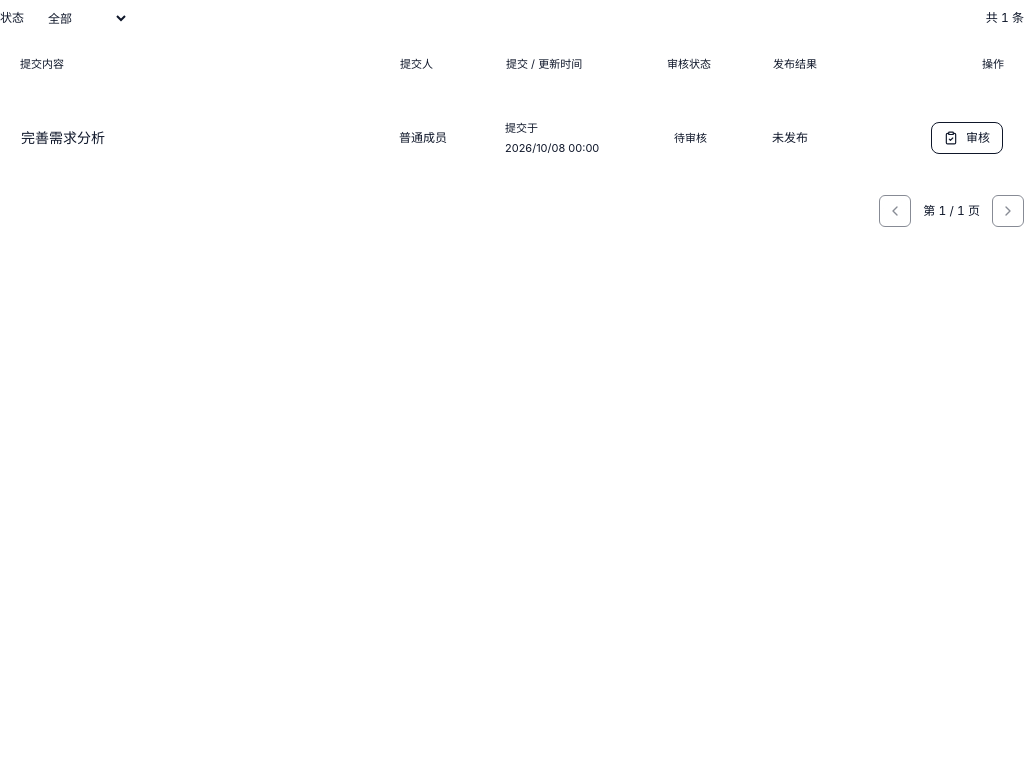
Test: 提交与审核 › 历史副本的每次审核显示真实快照修订和对应发布版
Click the button "审核" at [967, 138], box [931,122,1003,154]
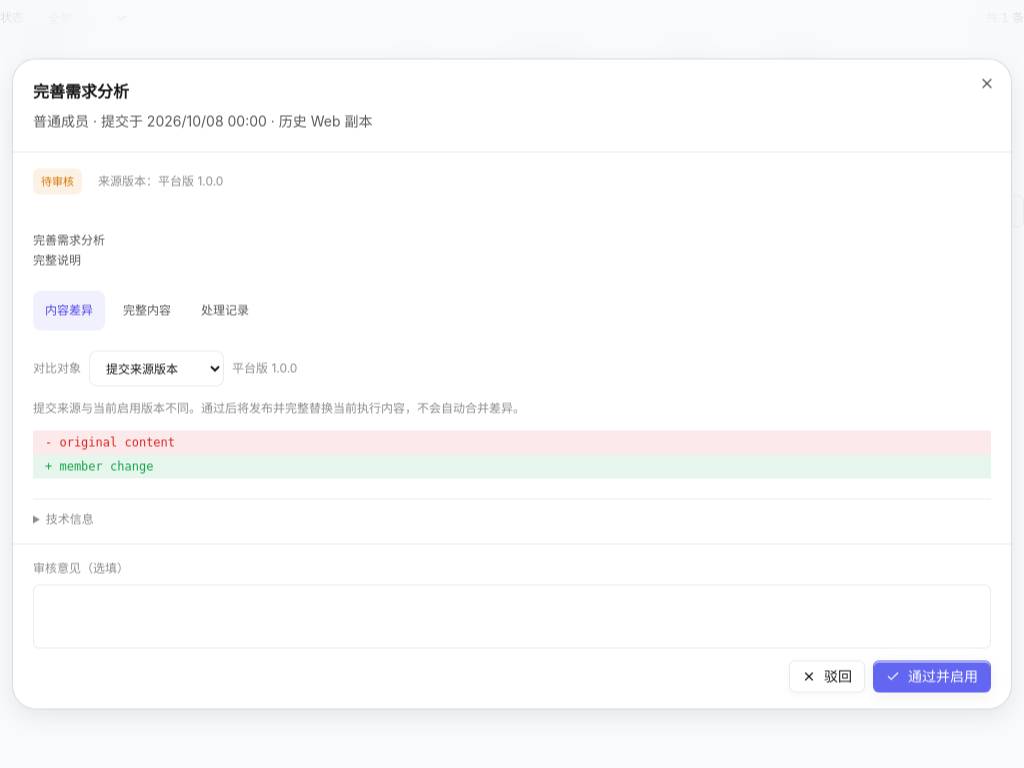
Press the mouse on the tab "处理记录" at [225, 310], box [189,290,261,330]
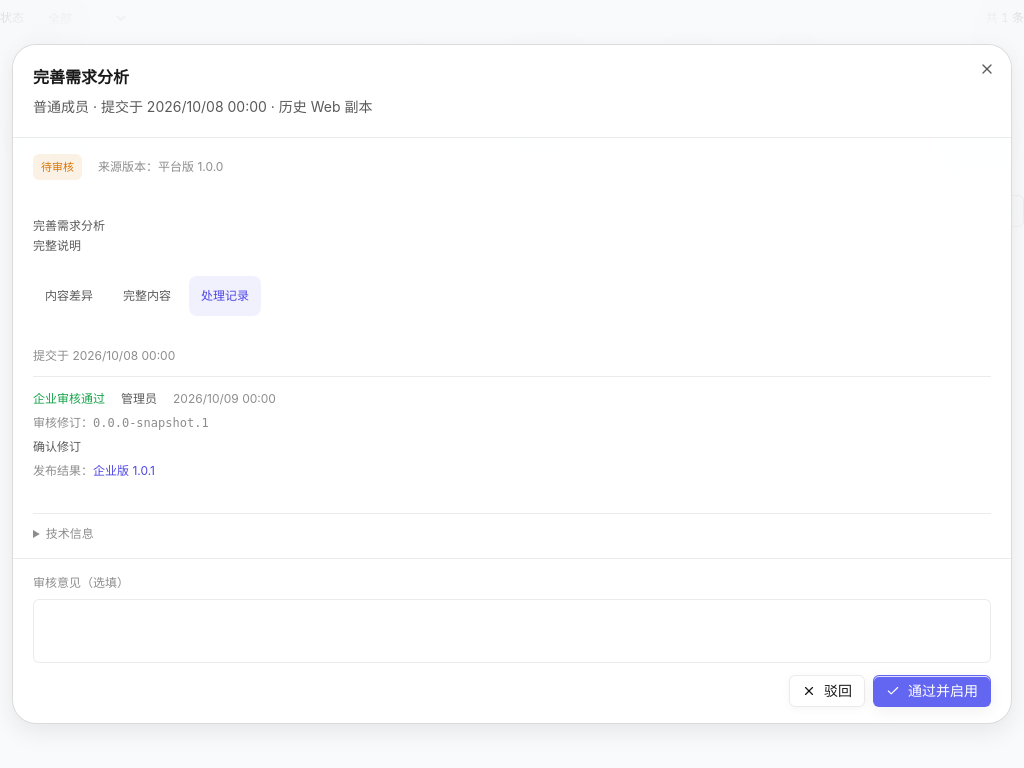
Check: the text "0.0.0-snapshot.1" is shown, box [93,416,209,430]
